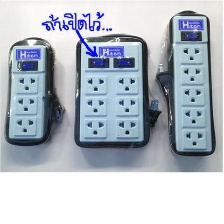three_eye_plug: (76, 39, 148, 145), (166, 13, 214, 154), (6, 41, 49, 143)
